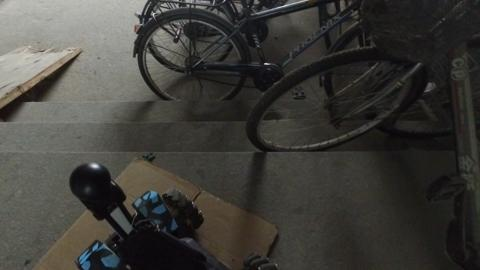chariot: (65, 160, 273, 270)
